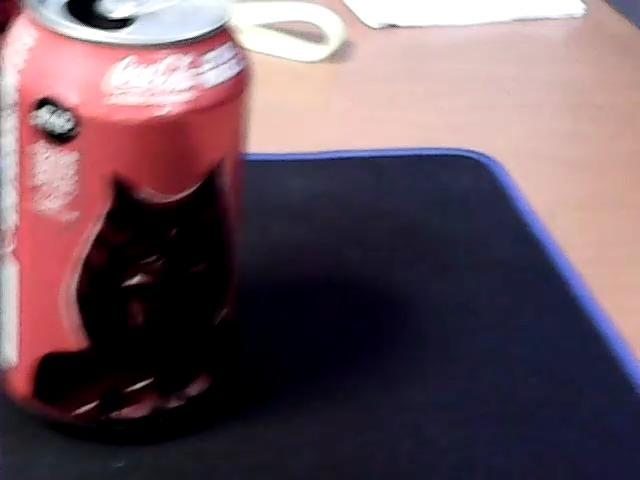coke: (1, 3, 258, 436)
